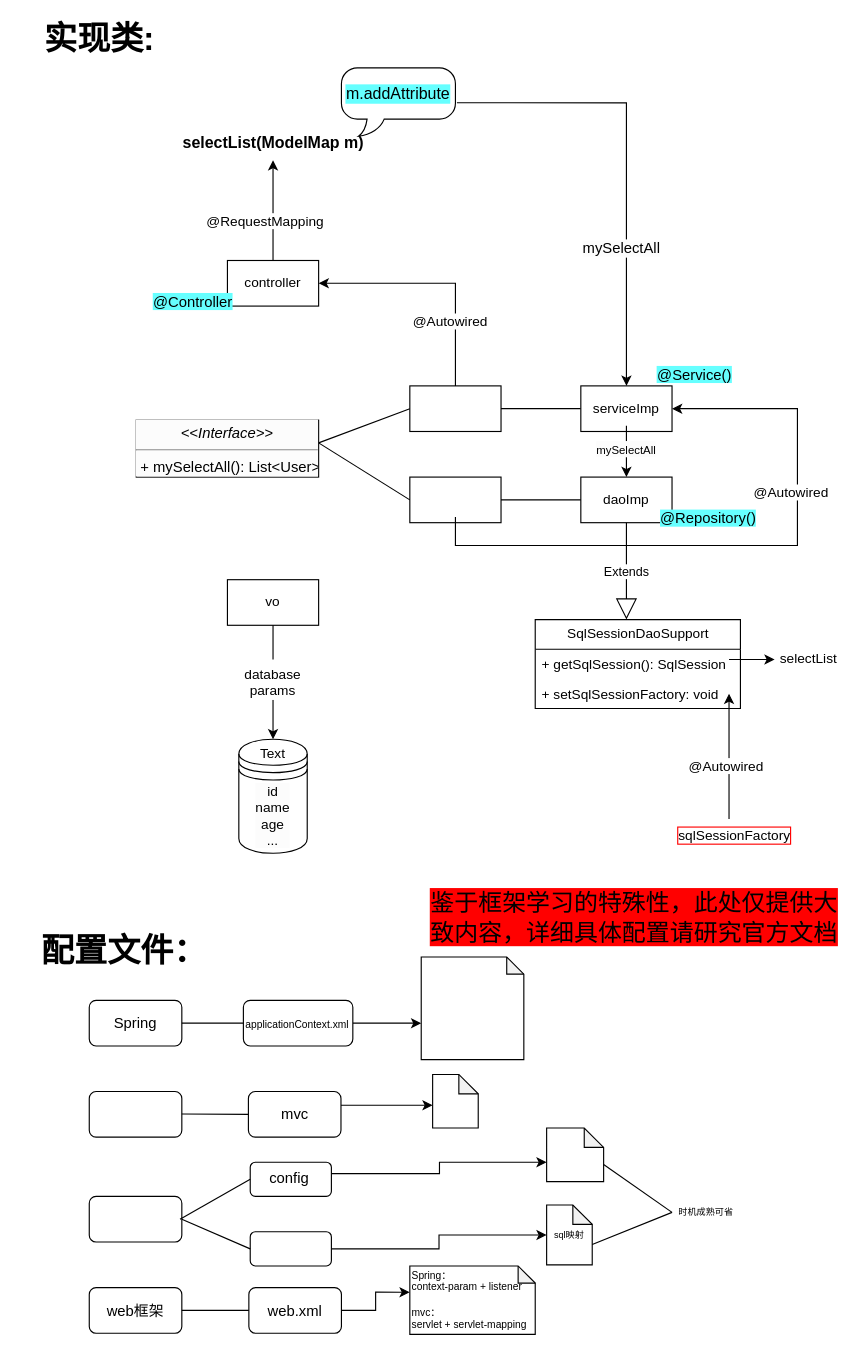
This 863x1354 diagram has some shape labels left out. Here are the shapes that lost their labels. From the top down, the centre of each, then its label:
At point (455, 408): "service".
At point (455, 499): "dao".
At point (472, 1008): "1. dataSource 2. SqlSessionFactory 3. 声明式事务 a. 事务管理器 b. 切面 4. 注解支持".
At point (135, 1113): "Spring MVC".
At point (454, 1100): "注解支持".
At point (574, 1154): "mapper映射".
At point (135, 1218): "Mybatis".
At point (290, 1248): "sql_mapper".
